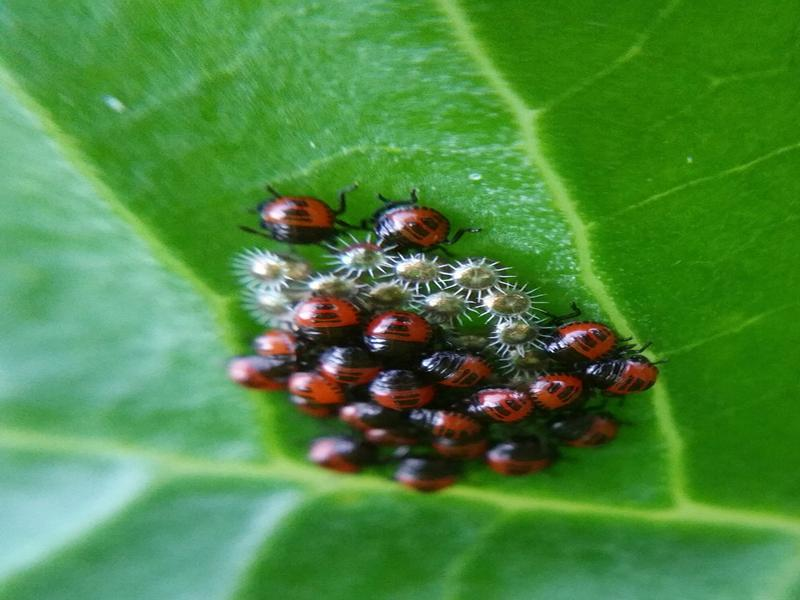Spiny_beetle: (181, 197, 673, 501)
